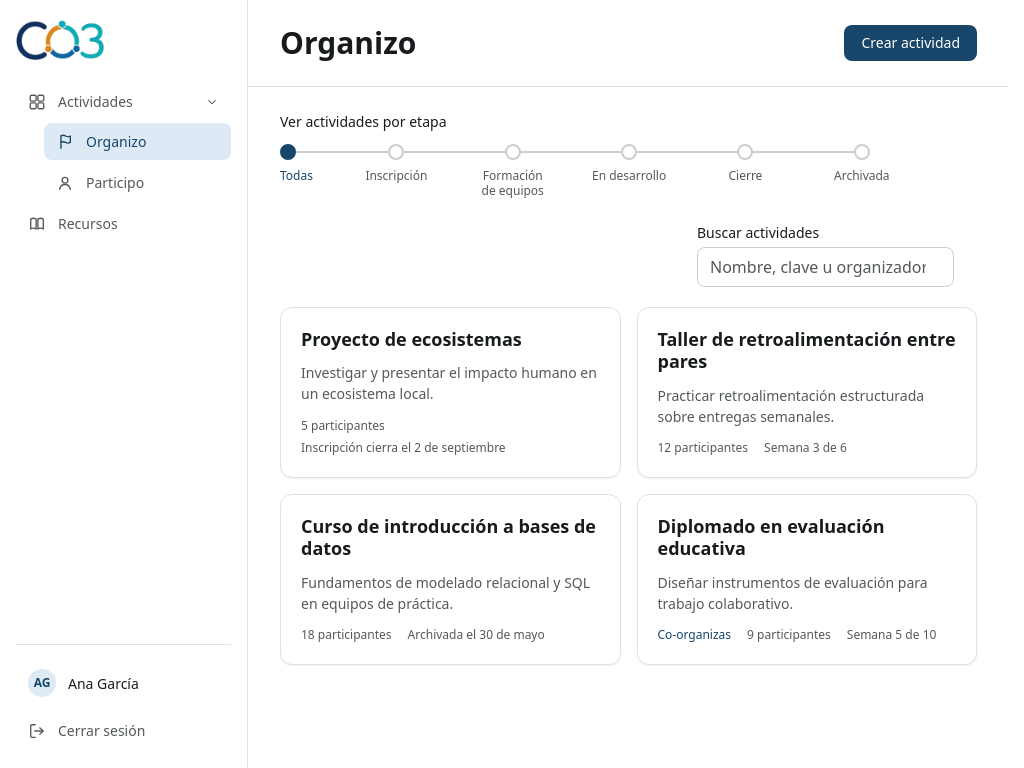
Test: PantallaMisActividades › rol="organizo" › avisa cuando ninguna actividad tiene el estado elegido
The width and height of the screenshot is (1024, 768).
Expected: the heading "Proyecto de ecosistemas" is shown, [301,326,522,350]
Click the 5th button named "Cierre" at (745, 152), box [737,144,753,160]
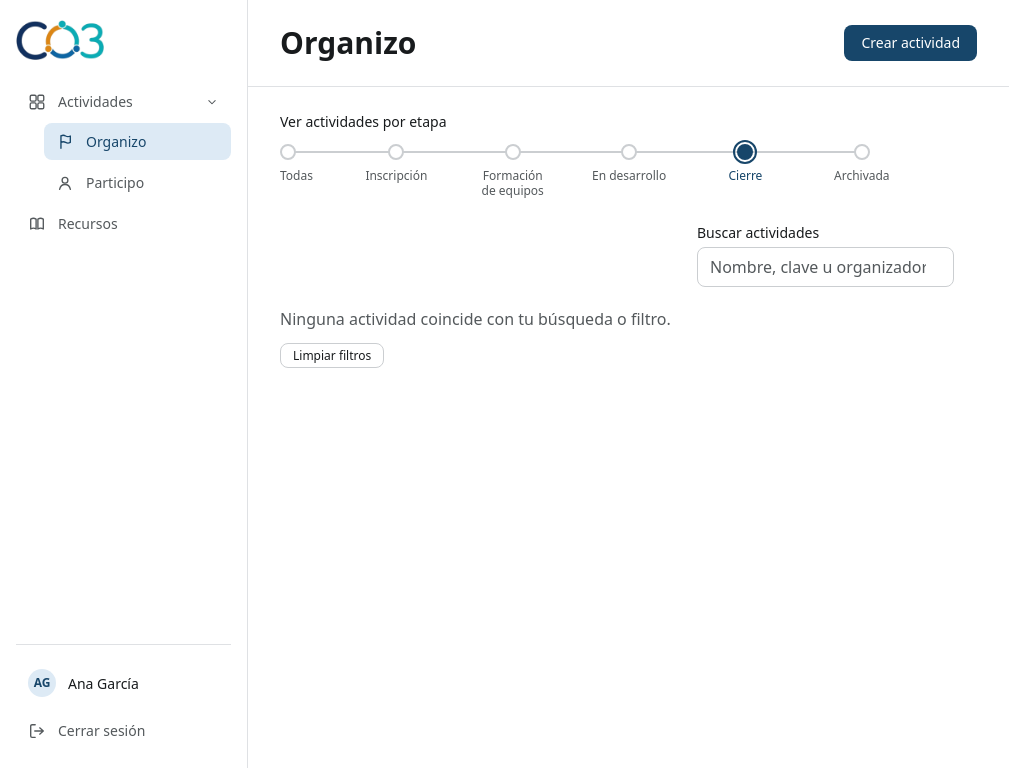
Expected: the text "Ninguna actividad coincide con tu búsqueda o filtro." is shown, [280,306,671,330]
